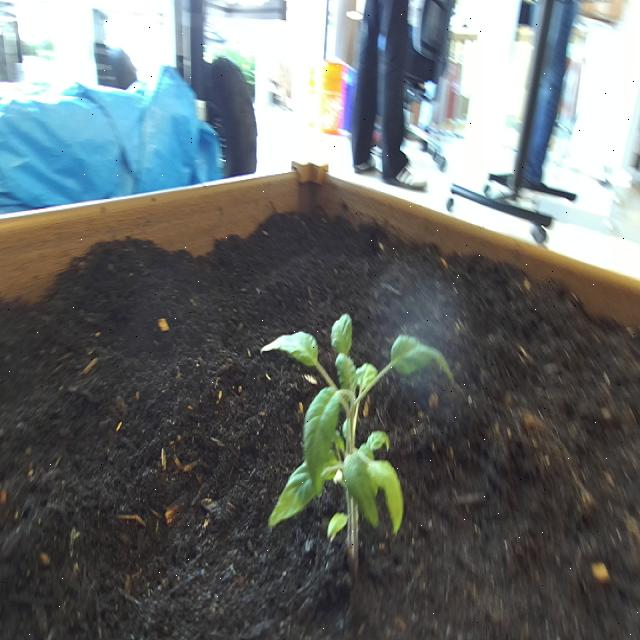Healthy: (259, 310, 456, 589)
